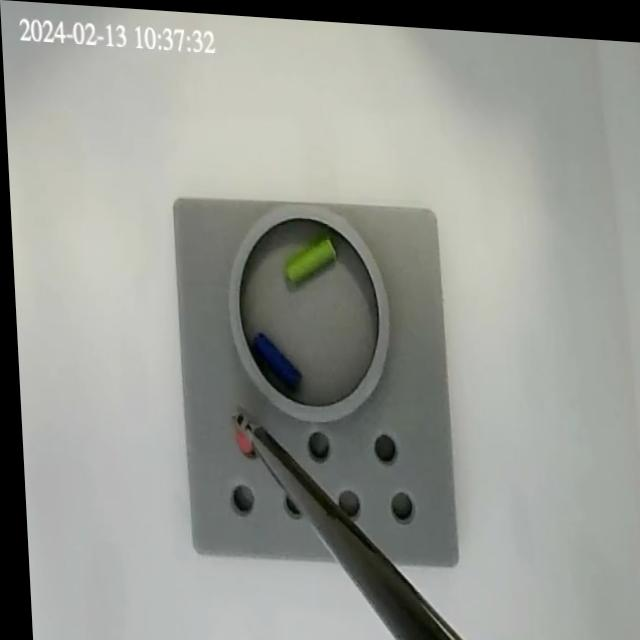EmptyHole: (330, 480, 359, 518), (367, 425, 395, 462), (225, 479, 254, 513), (302, 424, 328, 461), (383, 485, 412, 518), (277, 483, 306, 515)
FilledHole: (235, 424, 261, 462)
